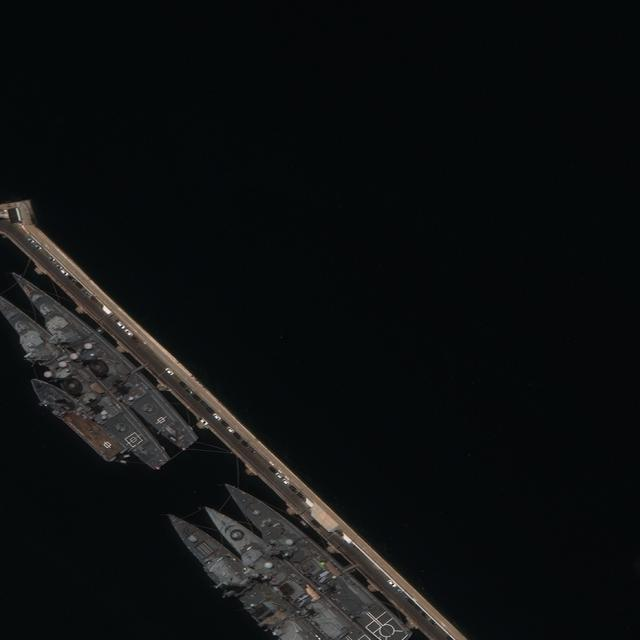Other Warship: (3, 258, 202, 459), (231, 480, 413, 640), (3, 299, 168, 469), (212, 506, 378, 640), (171, 515, 326, 640), (24, 369, 129, 467)
